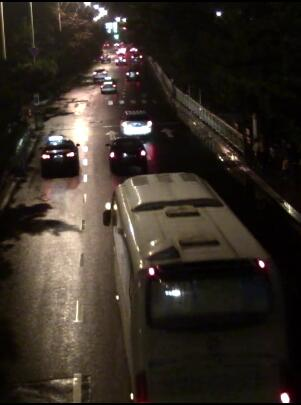bus: (97, 172, 293, 402)
car: (37, 136, 80, 174), (103, 135, 149, 169), (116, 108, 154, 136), (125, 64, 140, 80), (99, 76, 115, 90), (92, 66, 109, 79), (128, 48, 142, 63), (112, 54, 127, 65), (98, 49, 111, 61)
